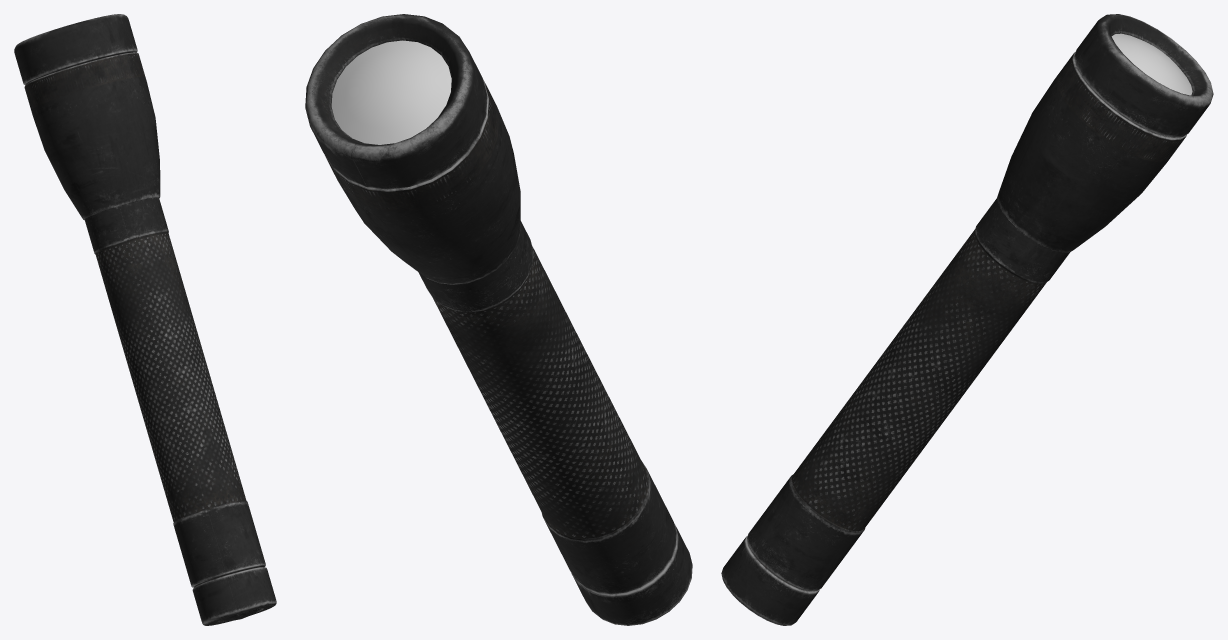
The model's file is mdlFlashlightPickup Variant.fbx.
3 views of the same model, side by side, from view 1: azimuth 30°, elevation 25°; view 2: azimuth 150°, elevation 25°; view 3: azimuth 270°, elevation 25° (orthographic). The views are drawn at different scales.
Visible parts, largest first — view 1: 24_flashlight1_0.3_0_0, 24_flashlight2_0.3_0_0; view 2: 24_flashlight1_0.3_0_0, 24_flashlight2_0.3_0_0, 25_lens_0.3_0_0; view 3: 24_flashlight1_0.3_0_0, 24_flashlight2_0.3_0_0, 25_lens_0.3_0_0.
Boxes of the visible parts, x1,y1,x2,y2 form: 24_flashlight1_0.3_0_0: (24,53,276,625); 24_flashlight2_0.3_0_0: (14,14,137,85); 24_flashlight1_0.3_0_0: (326,82,692,625); 24_flashlight2_0.3_0_0: (305,14,488,191); 25_lens_0.3_0_0: (331,40,451,144); 24_flashlight1_0.3_0_0: (721,53,1186,625); 24_flashlight2_0.3_0_0: (1072,14,1213,139); 25_lens_0.3_0_0: (1111,33,1192,95).
Size of the model in its own units: 386 by 1813 by 1358.
